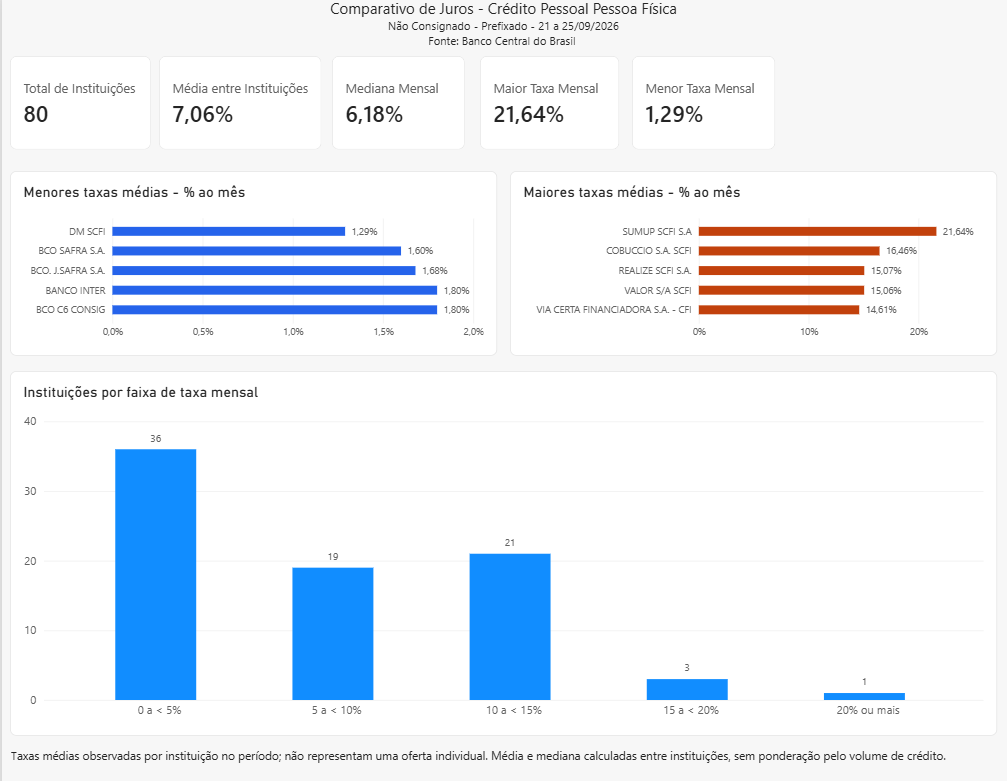

The page's visual inventory and layout, read from the dashboard file:
{"tool":"powerbi","page":{"name":"Página 1","canvas":[1920,1080],"ordinal":0},"visuals":[{"type":"cardVisual","fields":{"Data":["juros_tratados.Total Instituicoes"]},"box":[10,73,176,117],"z":0},{"type":"cardVisual","fields":{"Data":["juros_tratados.Maior Taxa Mensal"]},"box":[598,73,174,117],"z":1},{"type":"cardVisual","fields":{"Data":["juros_tratados.Menor Taxa Mensal"]},"box":[788,73,179,117],"z":2},{"type":"cardVisual","fields":{"Data":["juros_tratados.Media Mensal"]},"box":[196,73,203,117],"z":3},{"type":"cardVisual","fields":{"Data":["juros_tratados.Mediana Mensal"]},"box":[413,73,166,117],"z":4},{"type":"clusteredBarChart","title":"Menores taxas médias - % ao mês","fields":{"Category":["juros_tratados.InstituicaoFinanceira"],"Y":["juros_tratados.Taxa Mensal Instituicao"]},"box":[10,216,609,231],"z":5},{"type":"clusteredBarChart","title":"Maiores taxas médias - % ao mês","fields":{"Category":["juros_tratados.InstituicaoFinanceira"],"Y":["juros_tratados.Taxa Mensal Instituicao"]},"box":[635,216,609,231],"z":7},{"type":"clusteredColumnChart","title":"Instituições por faixa de taxa mensal","fields":{"Category":["juros_tratados.Faixa Taxa Mensal"],"Y":["juros_tratados.Total Instituicoes"]},"box":[10,466.2,1233.8,456.2],"z":8},{"type":"textbox","box":[10,0,1233.8,72.5],"z":9},{"type":"textbox","box":[10.6,936.4,1233,97.1],"z":10}]}

Visuals, with their boxes on the page's 1920x1080 design canvas (x1, y1, x2, y2). These are canvas units, not pixel positions in the 1007x781 screenshot, which may show the page scaled, cropped or inside an application window:
cardVisual - juros_tratados.Total Instituicoes: [10, 73, 186, 190]
cardVisual - juros_tratados.Maior Taxa Mensal: [598, 73, 772, 190]
cardVisual - juros_tratados.Menor Taxa Mensal: [788, 73, 967, 190]
cardVisual - juros_tratados.Media Mensal: [196, 73, 399, 190]
cardVisual - juros_tratados.Mediana Mensal: [413, 73, 579, 190]
"Menores taxas médias - % ao mês" clusteredBarChart: [10, 216, 619, 447]
"Maiores taxas médias - % ao mês" clusteredBarChart: [635, 216, 1244, 447]
"Instituições por faixa de taxa mensal" clusteredColumnChart: [10, 466, 1244, 922]
textbox: [10, 0, 1244, 72]
textbox: [11, 936, 1244, 1034]
